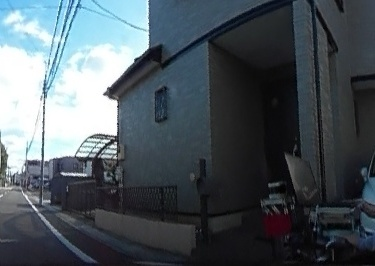person: (346, 79, 375, 265)
